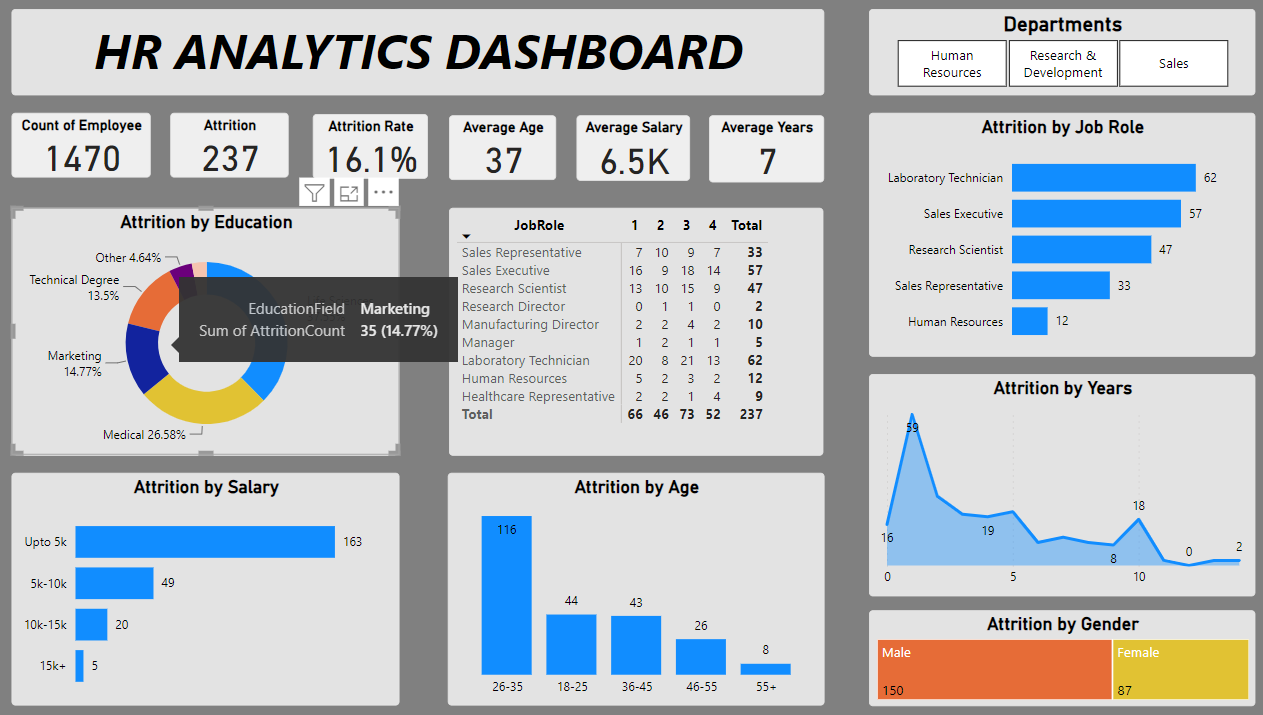

The dashboard page shown, as its layout file describes it:
{"tool":"powerbi","page":{"name":"Page 1","canvas":[1280,720],"ordinal":0},"visuals":[{"type":"card","title":"Count of Employee","fields":{"Values":["CountNonNull(HR_Analytics.EmpID)"]},"box":[17,113.8,139.4,64.9],"z":0},{"type":"card","title":"Attrition","fields":{"Values":["Sum(HR_Analytics.AttritionCount)"]},"box":[176.6,113.8,118.1,64.9],"z":1000},{"type":"card","title":"Attrition Rate","fields":{"Values":["HR_Analytics.AttritionRate"]},"box":[319.1,114.9,114.9,64.9],"z":2000},{"type":"card","title":"Average Age ","fields":{"Values":["Avg(HR_Analytics.Age)"]},"box":[455.3,116,107.4,64.9],"z":3000},{"type":"card","title":"Average Salary","fields":{"Values":["Avg(HR_Analytics.MonthlyIncome)"]},"box":[583,116,113.8,66],"z":4000},{"type":"card","title":"Average Years ","fields":{"Values":["Avg(HR_Analytics.YearsAtCompany)"]},"box":[714.9,116,114.9,67],"z":5000},{"type":"donutChart","title":"Attrition by Education","fields":{"Category":["HR_Analytics.EducationField"],"Y":["Sum(HR_Analytics.AttritionCount)"]},"box":[17,208.5,388.3,247.9],"z":6000},{"type":"columnChart","title":"Attrition by Age","fields":{"Category":["HR_Analytics.AgeGroup"],"Y":["Sum(HR_Analytics.AttritionCount)"]},"box":[453.2,473.4,376.6,233],"z":7000},{"type":"pivotTable","fields":{"Rows":["HR_Analytics.JobRole"],"Columns":["HR_Analytics.JobSatisfaction"],"Values":["Sum(HR_Analytics.AttritionCount)"]},"box":[455.3,208.5,374.5,247.9],"z":8000},{"type":"barChart","title":"Attrition by Salary","fields":{"Category":["HR_Analytics.SalarySlab"],"Y":["Sum(HR_Analytics.AttritionCount)"]},"box":[17,473.4,388.3,233],"z":9000},{"type":"barChart","title":"Attrition by Job Role","fields":{"Category":["HR_Analytics.JobRole"],"Y":["Sum(HR_Analytics.AttritionCount)"]},"box":[875.5,113.8,386.2,243.6],"z":10000},{"type":"areaChart","title":"Attrition by Years","fields":{"Category":["HR_Analytics.YearsAtCompany"],"Y":["Sum(HR_Analytics.AttritionCount)"]},"box":[875,375,386.2,222.5],"z":11000},{"type":"treemap","title":"Attrition by Gender","fields":{"Group":["HR_Analytics.Gender"],"Values":["Sum(HR_Analytics.AttritionCount)"]},"box":[875.5,610.6,386.2,95.7],"z":12000},{"type":"slicer","title":"Departments","fields":{"Values":["HR_Analytics.Department"]},"box":[875.5,9.6,386.2,86.2],"z":13000},{"type":"textbox","box":[17,9.6,812.8,86.2],"z":14000}]}

Visuals, with their boxes in screenshot pixels (x1, y1, x2, y2), scaled from the page's 1280x720 canvas onto the 1263x715 screenshot:
"Count of Employee" card: [left=17, top=113, right=154, bottom=177]
"Attrition" card: [left=174, top=113, right=291, bottom=177]
"Attrition Rate" card: [left=315, top=114, right=428, bottom=179]
"Average Age " card: [left=449, top=115, right=555, bottom=180]
"Average Salary" card: [left=575, top=115, right=688, bottom=181]
"Average Years " card: [left=705, top=115, right=819, bottom=182]
"Attrition by Education" donutChart: [left=17, top=207, right=400, bottom=453]
"Attrition by Age" columnChart: [left=447, top=470, right=819, bottom=701]
pivotTable - HR_Analytics.JobRole x HR_Analytics.JobSatisfaction: [left=449, top=207, right=819, bottom=453]
"Attrition by Salary" barChart: [left=17, top=470, right=400, bottom=701]
"Attrition by Job Role" barChart: [left=864, top=113, right=1245, bottom=355]
"Attrition by Years" areaChart: [left=863, top=372, right=1244, bottom=593]
"Attrition by Gender" treemap: [left=864, top=606, right=1245, bottom=701]
"Departments" slicer: [left=864, top=10, right=1245, bottom=95]
textbox: [left=17, top=10, right=819, bottom=95]
